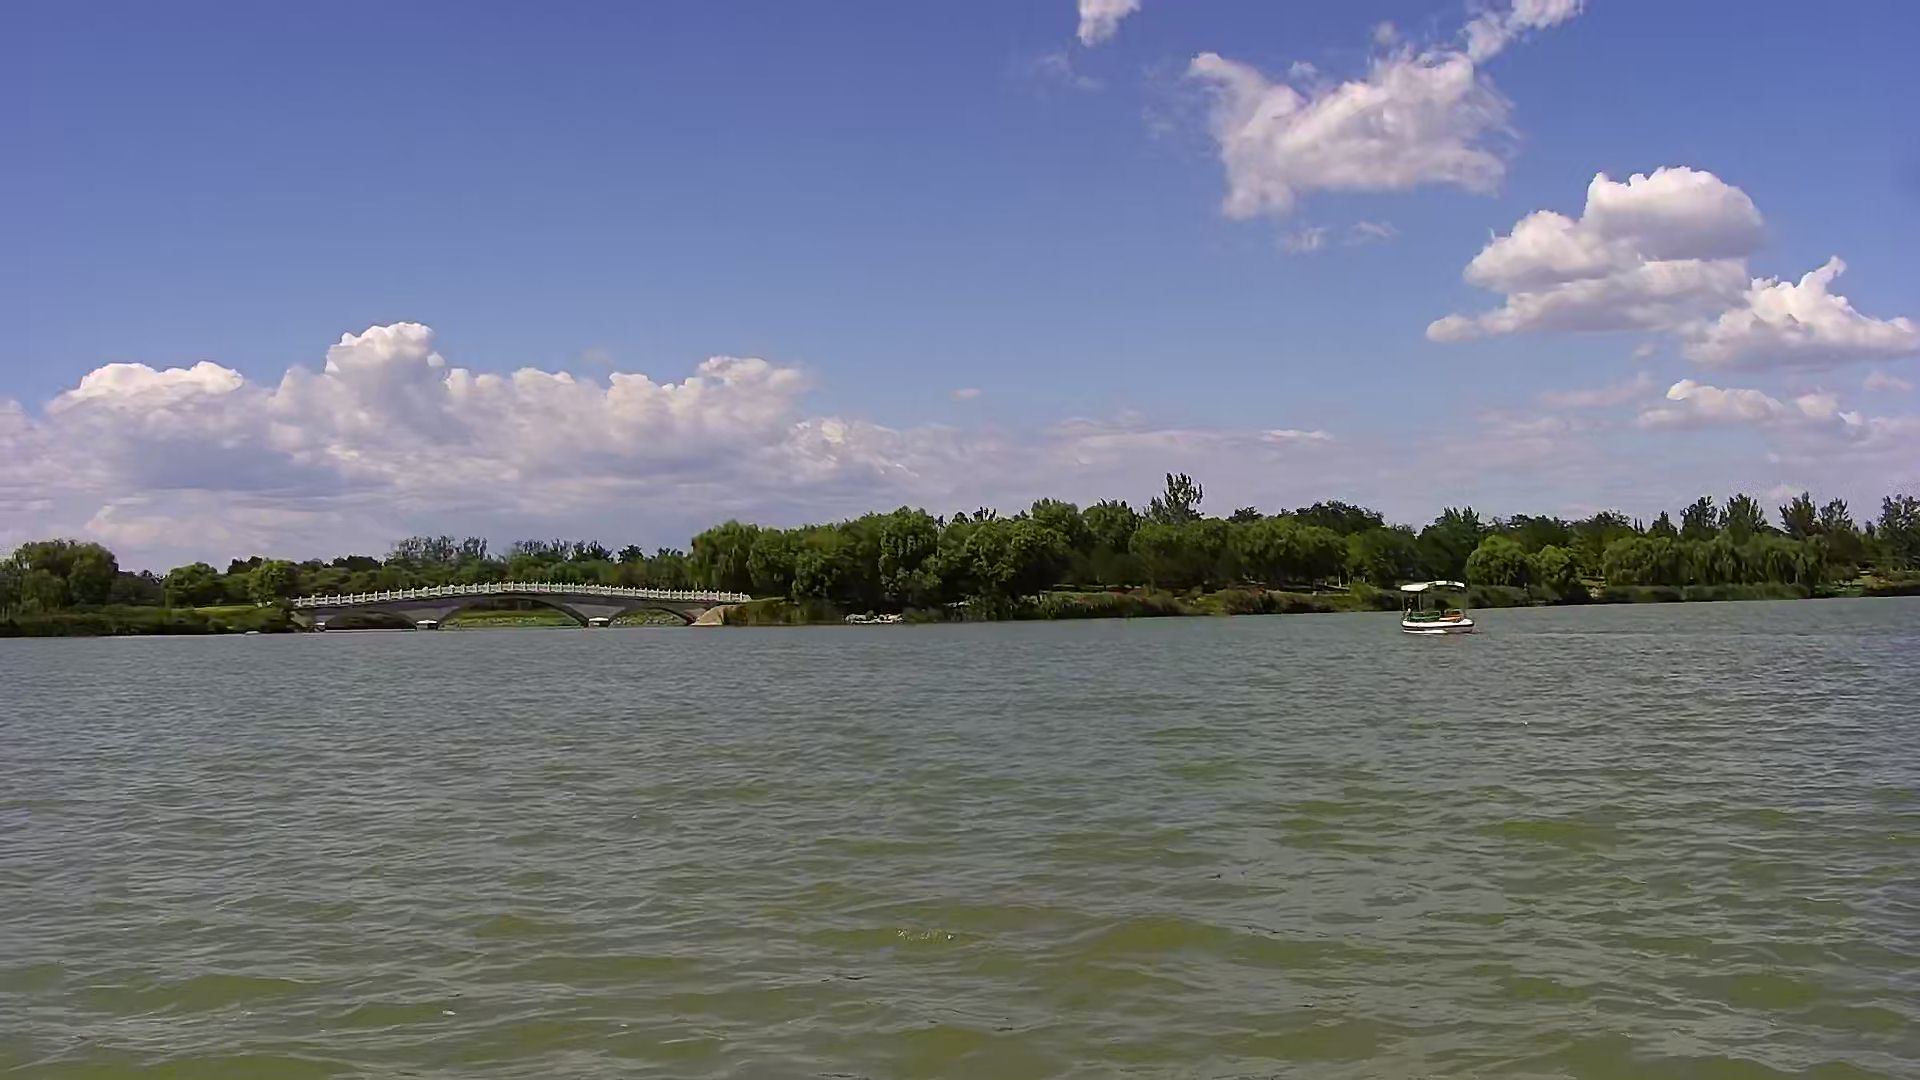boat: (1400, 576, 1477, 638)
bridge: (310, 585, 723, 628)
